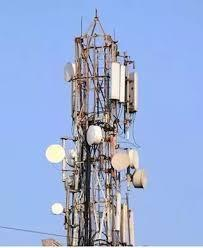Microwave Antenna: (44, 142, 67, 168), (60, 61, 79, 86), (110, 150, 129, 173), (85, 126, 103, 148), (132, 168, 148, 192), (50, 200, 65, 222), (126, 147, 141, 169)
antenna: (123, 72, 138, 114), (110, 60, 120, 104), (121, 200, 129, 248), (113, 189, 121, 233), (120, 60, 127, 104)
